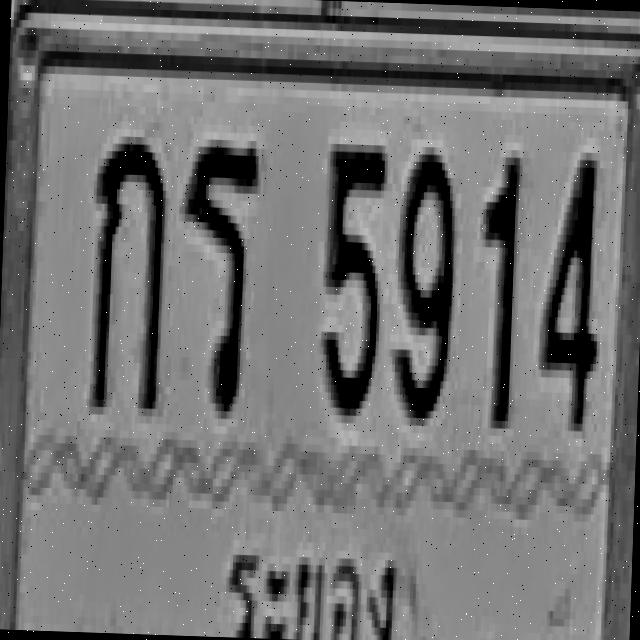1: (474, 148, 521, 428)
10GorGai: (86, 131, 167, 412)
4: (536, 151, 603, 431)
44RorRuea: (176, 134, 260, 416)
5: (318, 136, 385, 416)
9: (391, 150, 458, 422)
Rayong: (218, 509, 406, 640)
